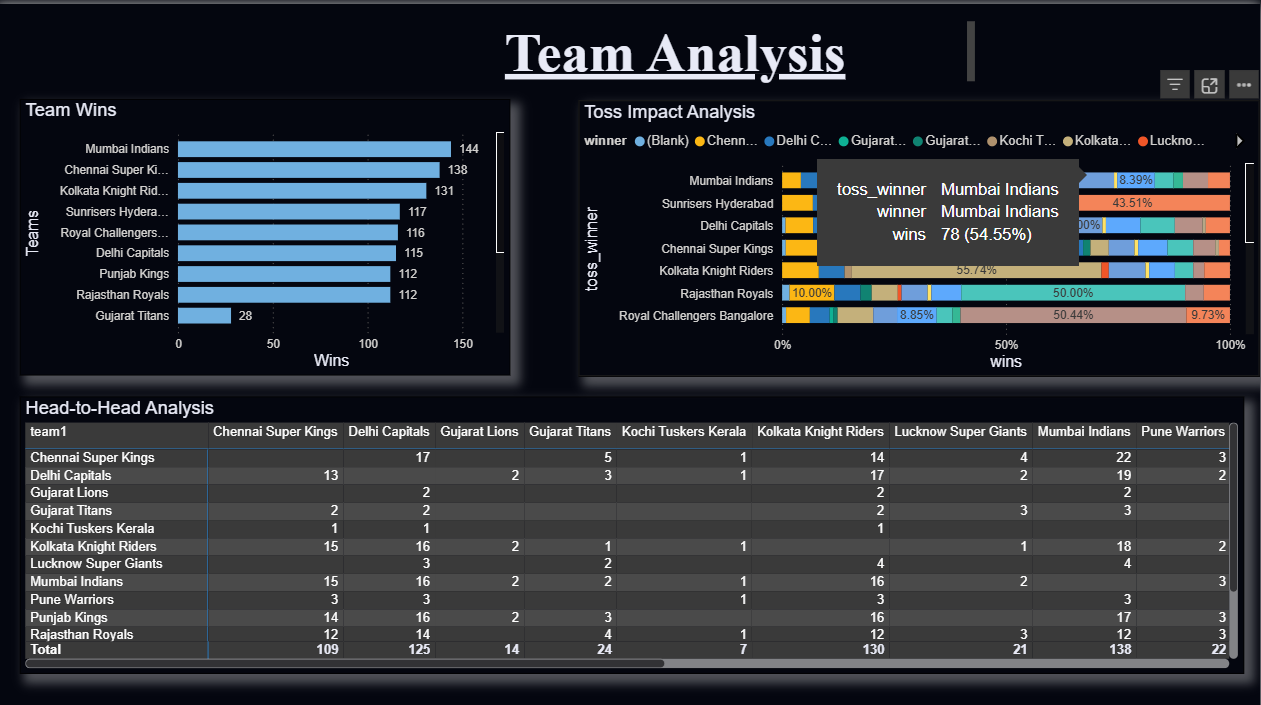

What the dashboard file says about the page in this screenshot:
{"tool":"powerbi","page":{"name":"Page 2","canvas":[1280,720],"ordinal":1},"visuals":[{"type":"clusteredBarChart","title":"Team Wins","fields":{"Category":["powerbi_matches.winner"],"Y":["CountNonNull(powerbi_matches.winner)"]},"box":[23.7,96,496.7,279.7],"z":0},{"type":"pivotTable","title":"Head-to-Head Analysis","fields":{"Rows":["powerbi_matches.team1"],"Columns":["powerbi_matches.team2"],"Values":["CountNonNull(powerbi_matches.winner)"]},"box":[23.7,397.9,1239.7,281],"z":1000},{"type":"hundredPercentStackedBarChart","title":"Toss Impact Analysis","fields":{"Category":["powerbi_matches.toss_winner"],"Series":["powerbi_matches.winner"],"Y":["Count(powerbi_matches.id)"]},"box":[589.9,97.4,690.1,279.7],"z":2000},{"type":"textbox","box":[347.8,12.5,648.3,72.3],"z":3000}]}

Visuals, with their boxes in screenshot pixels (x1, y1, x2, y2), scaled from the page's 1280x720 canvas onto the 1261x705 screenshot:
"Team Wins" clusteredBarChart: rect(23, 94, 513, 368)
"Head-to-Head Analysis" pivotTable: rect(23, 390, 1245, 665)
"Toss Impact Analysis" hundredPercentStackedBarChart: rect(581, 95, 1260, 369)
textbox: rect(343, 12, 981, 83)
